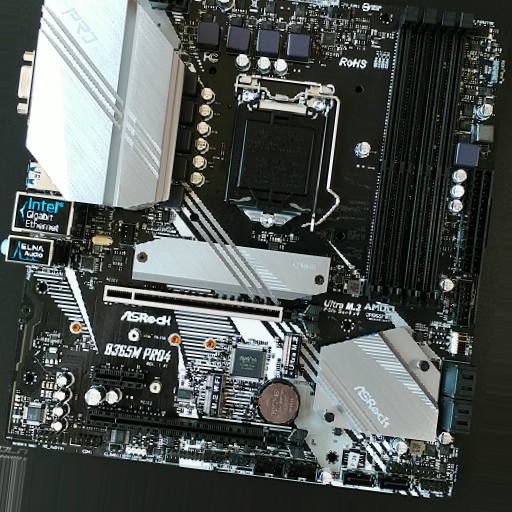CPU: (224, 73, 339, 236)
GPU: (86, 406, 309, 460), (100, 284, 321, 338)
MOTHERBOARD: (2, 1, 505, 501)
RAM: (363, 7, 476, 304)
SSD: (204, 374, 226, 416), (280, 335, 301, 375)
